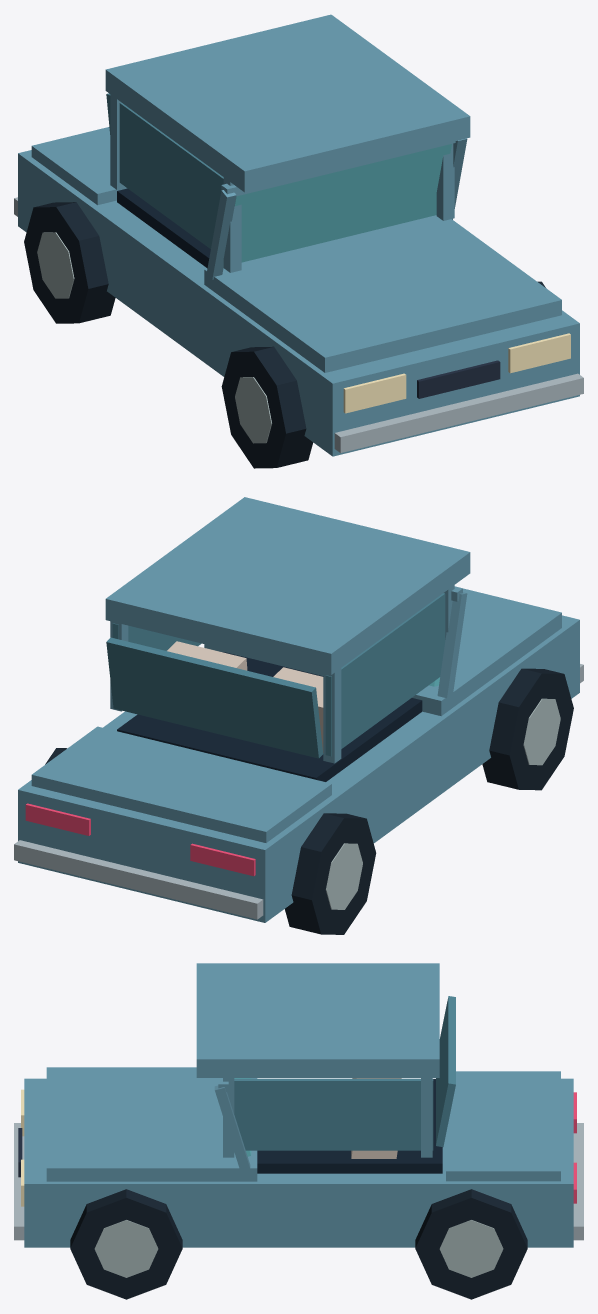
Rendered from vehicle-sedan.obj.
3 views of the same model, one above another, from view 1: azimuth 30°, elevation 25°; view 2: azimuth 150°, elevation 25°; view 3: azimuth 270°, elevation 25° (orthographic). The views are drawn at different scales.
Parts seen in each view (by area): view 1: vehicle-sedan; view 2: vehicle-sedan; view 3: vehicle-sedan.
Boxes of the visible parts, x1,y1,x2,y2 form: vehicle-sedan: (14,14,583,468); vehicle-sedan: (14,497,583,934); vehicle-sedan: (14,963,583,1299).
Bounding box in the file's own units: 2.28 × 1.96 × 4.46.
